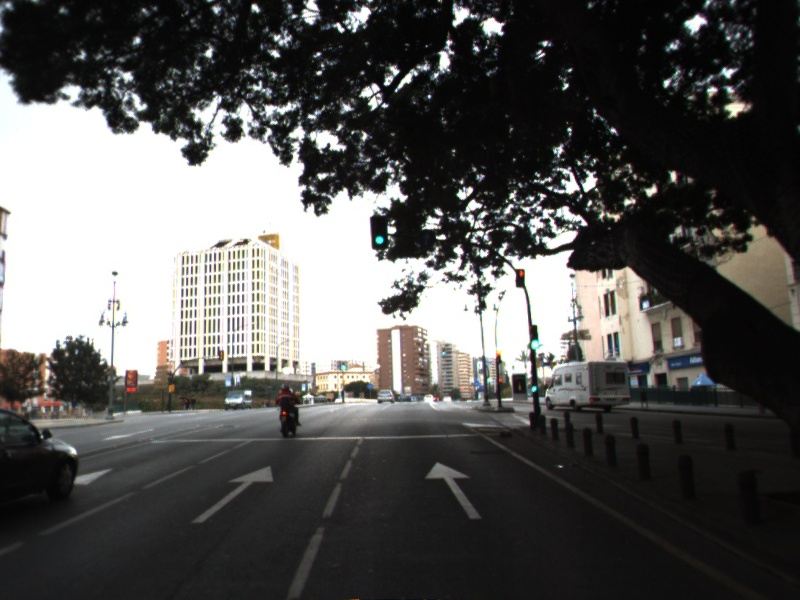STRAIGHT: (189, 464, 276, 525), (423, 460, 484, 521)
